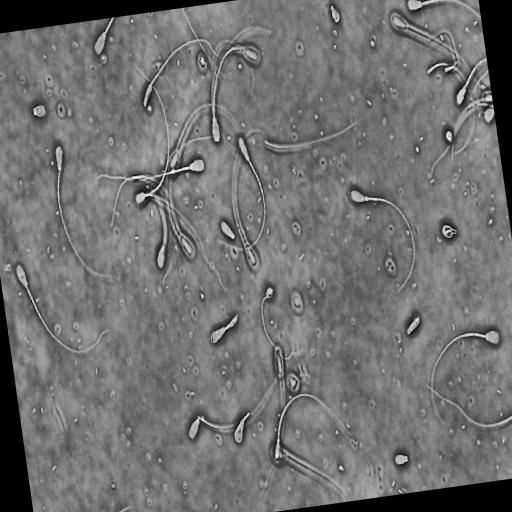coiled-tail: (210, 316, 237, 343), (234, 420, 245, 443), (442, 225, 457, 238), (407, 318, 419, 334), (243, 412, 249, 420), (445, 229, 452, 233)
dirt-particles: (445, 127, 454, 145)
folded-tail: (144, 39, 219, 104), (198, 385, 276, 429)
loose-head: (219, 218, 236, 241), (392, 449, 410, 467), (329, 2, 342, 25), (31, 102, 48, 119)
loose-tail: (260, 284, 298, 362)
normal: (13, 259, 112, 357), (53, 141, 121, 282), (348, 186, 416, 294), (431, 327, 502, 428), (272, 388, 349, 466), (218, 134, 267, 252), (142, 36, 220, 110), (186, 380, 279, 442), (426, 381, 512, 430), (95, 156, 206, 184), (406, 0, 481, 20), (209, 310, 240, 346), (232, 411, 250, 447), (405, 312, 422, 338), (440, 219, 460, 240)
proximal-droplet: (365, 196, 369, 201)
